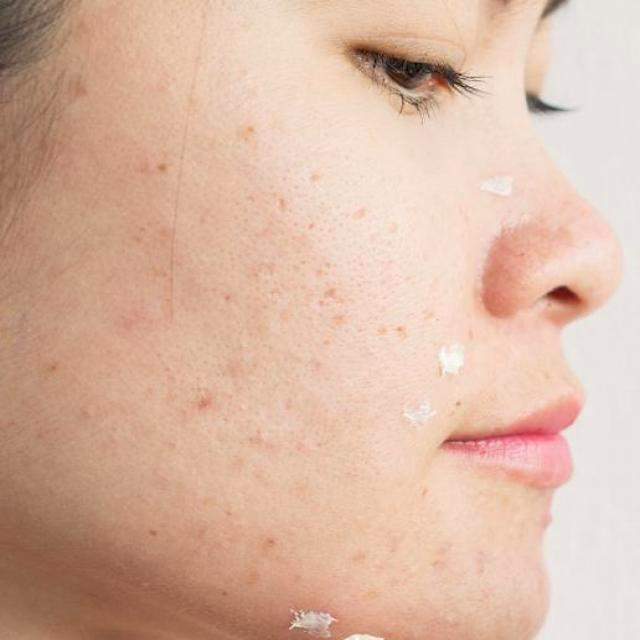Pimples: (478, 167, 518, 202), (434, 333, 464, 379), (195, 390, 216, 414), (318, 282, 338, 302), (149, 158, 169, 176), (240, 121, 256, 142), (44, 360, 60, 374), (264, 534, 276, 550)
